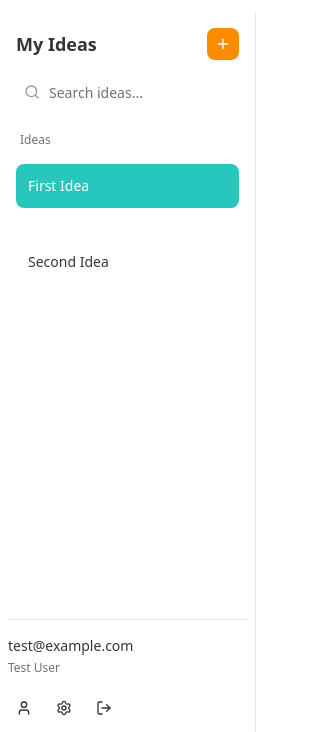
Test case: AppSidebar › filters items when searching
expect the link "First Idea" is shown: met, box [16,164,239,208]
expect the link "Second Idea" is shown: met, box [28,252,109,271]
// Type in search box
Type "Second" into the field with placeholder "Search ideas...".
click(128, 92); type("Second")  # box [16,76,239,108]
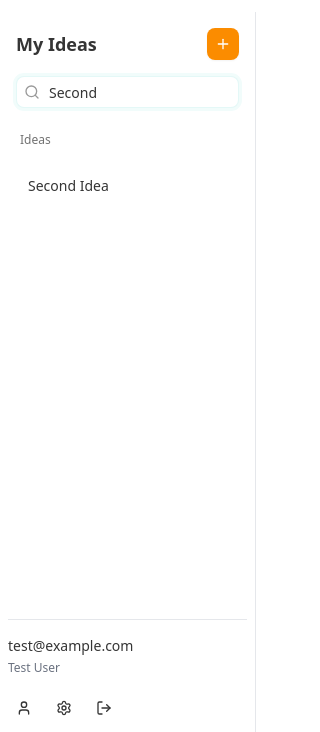
expect the link "Second Idea" is shown: met, box [28,176,109,195]
expect the link "First Idea" is gone: met
